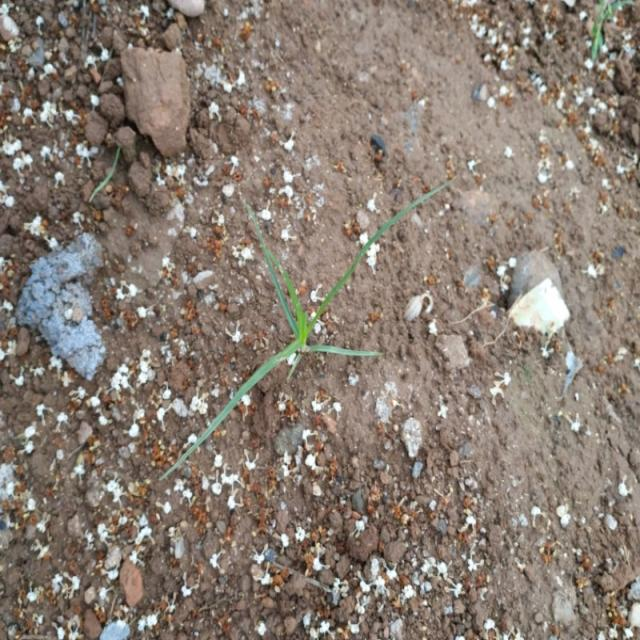sedge: (165, 210, 404, 481)
